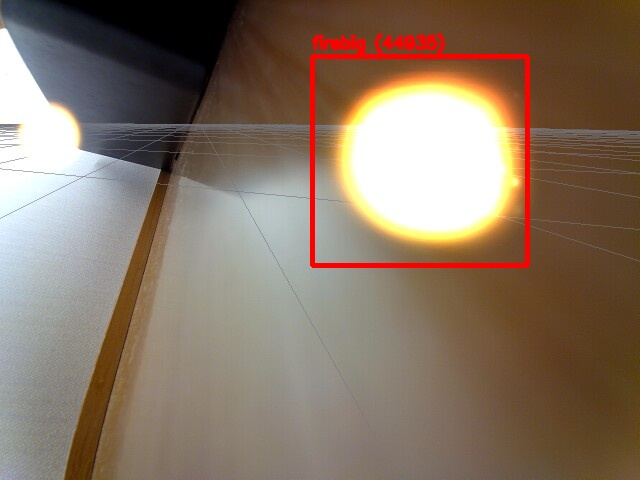firebig: (312, 56, 527, 265)
